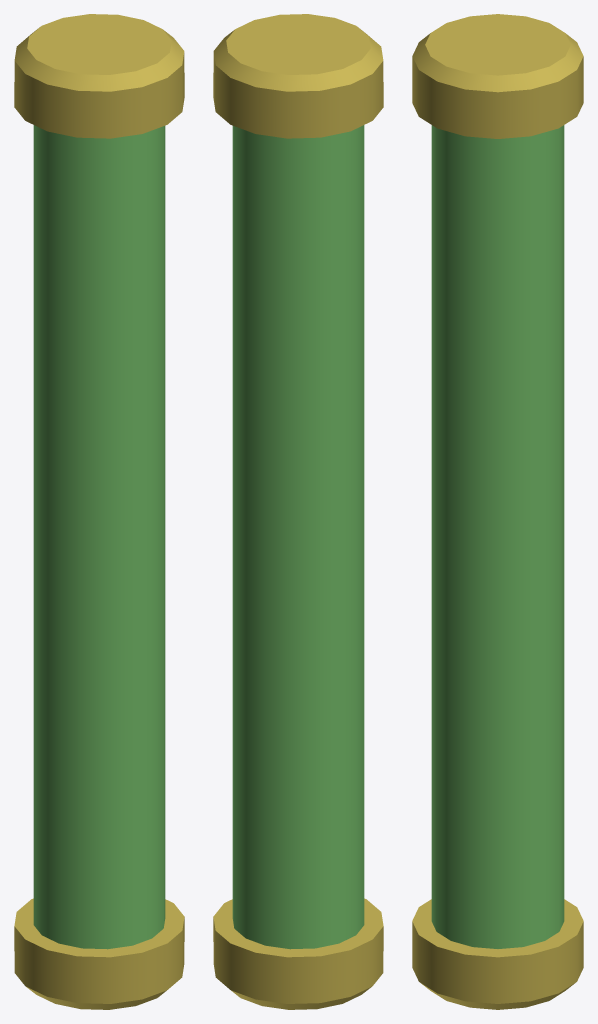
The model's file is SM_Pipe.fbx.
The picture shows the model from 3 angles, left to right: view 1: azimuth 30°, elevation 25°; view 2: azimuth 150°, elevation 25°; view 3: azimuth 270°, elevation 25°; orthographic projection.
Parts seen in each view (by area): view 1: Cylinder; view 2: Cylinder; view 3: Cylinder.
Boxes of the visible parts, x1,y1,x2,y2 form: Cylinder: (14, 14, 184, 1009); Cylinder: (213, 14, 383, 1009); Cylinder: (412, 14, 583, 1009).
Size of the model in its own units: 12.63 by 75.91 by 12.63.
